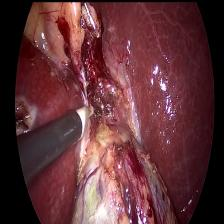Hook: (73, 100, 101, 142)
